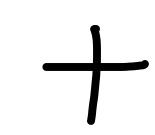plus: (42, 24, 150, 125)
